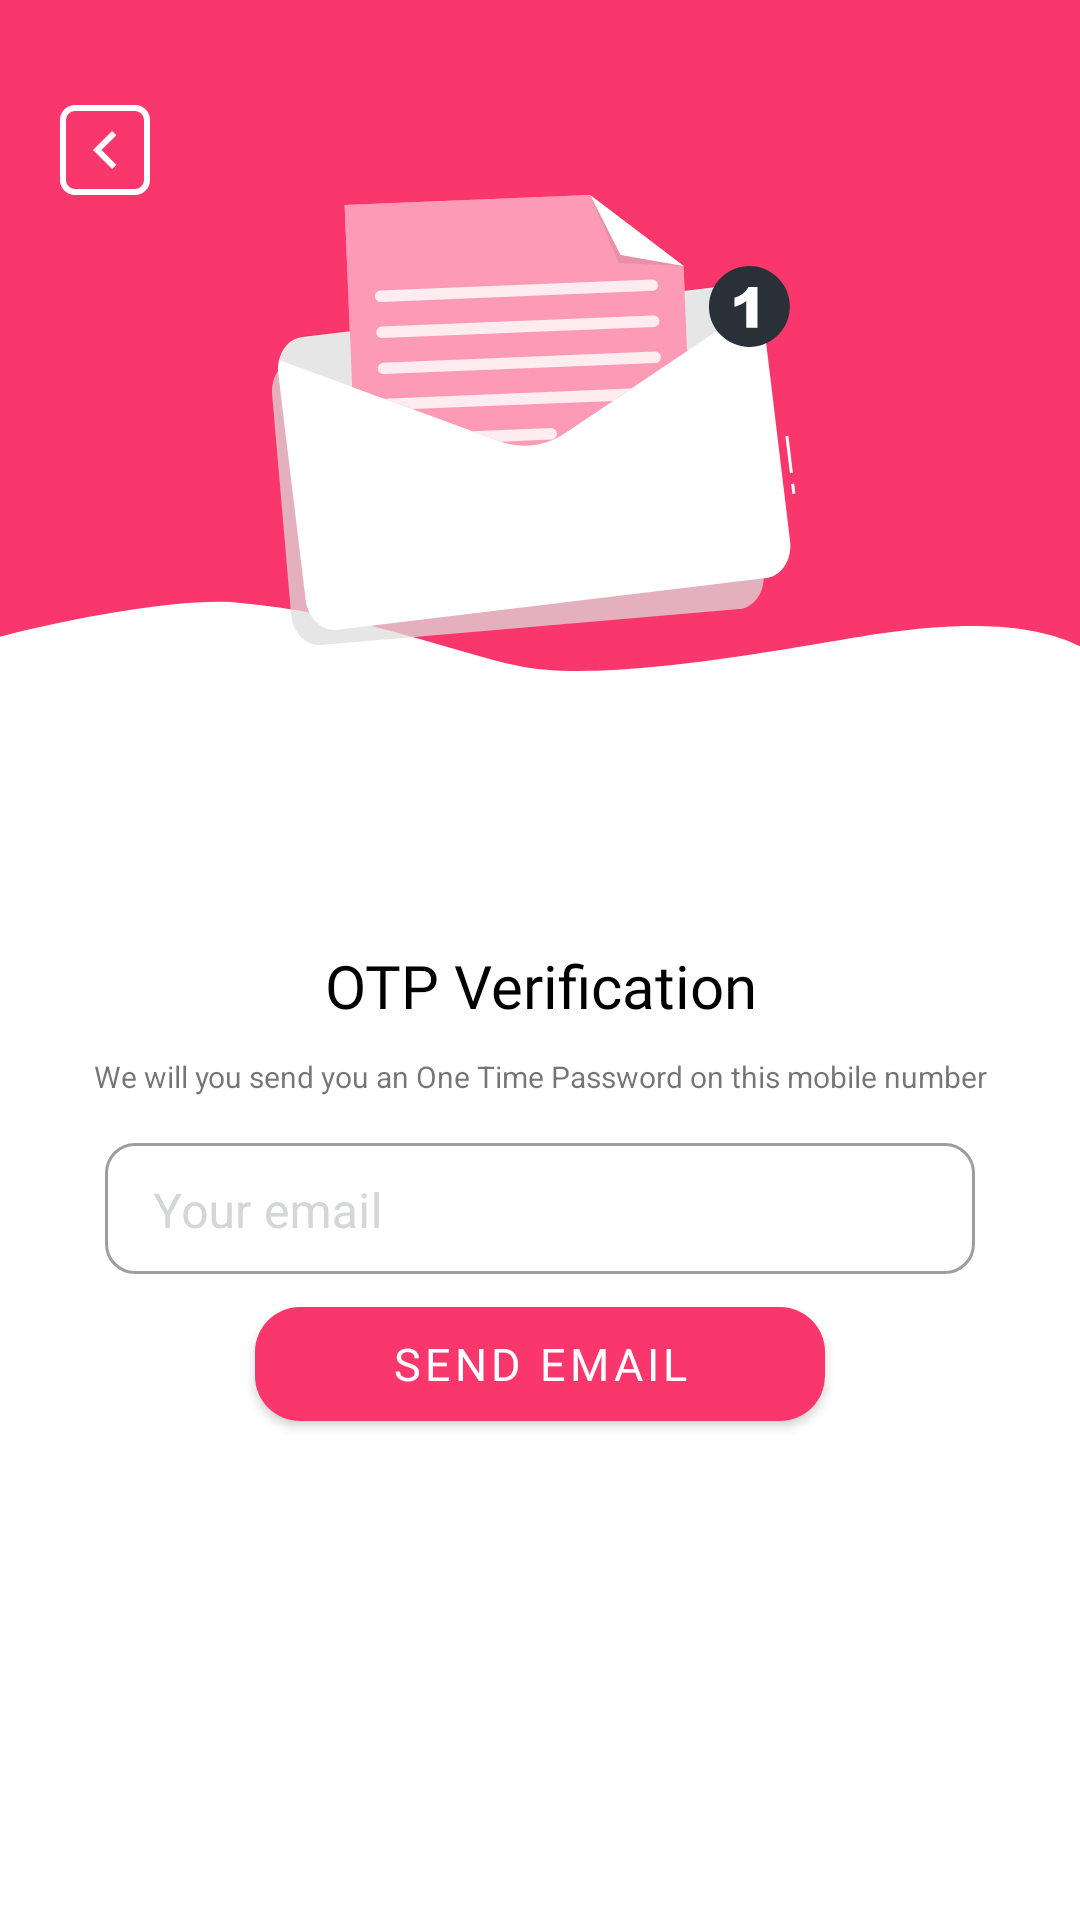

Icon click points for this 1080x1920 phone screenshot, format (x=x, y=y):
back bnt: (x=105, y=150)
